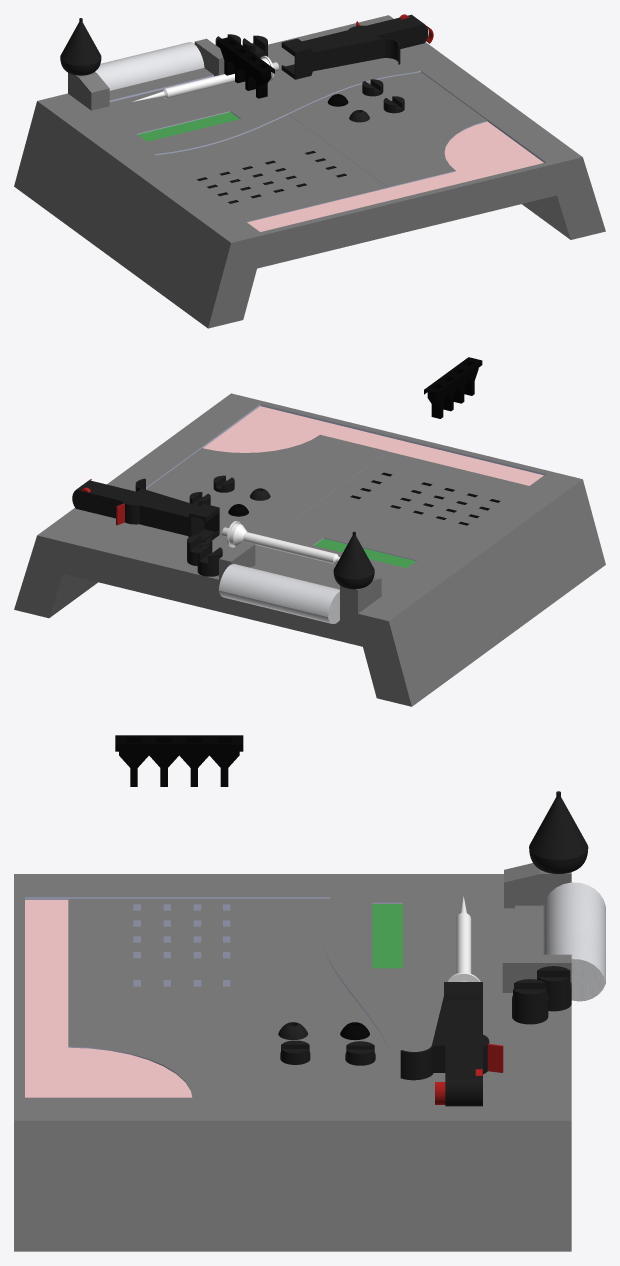
The model's file is labv99_motion.fbx.
3 views of the same model, one above another, from view 1: azimuth 30°, elevation 25°; view 2: azimuth 150°, elevation 25°; view 3: azimuth 270°, elevation 25° (orthographic). The views are drawn at different scales.
Visible parts, largest first — view 1: light grey low gloss plastic, light grey soft touch plastic, color-2 : bUTTON%20pAD - 1 : Part1-1 Body-0 Face-26, black low gloss plastic-5, cotton white 2d, frosted glass, color, black low gloss plastic-2', polypropylene, green medium gloss plastic, black low gloss plastic, black medium gloss plastic; view 2: light grey low gloss plastic, light grey soft touch plastic, color-2 : bUTTON%20pAD - 1 : Part1-1 Body-0 Face-26, black low gloss plastic-5, cotton white 2d, frosted glass, black low gloss plastic-2', polypropylene, color, black medium gloss plastic, green medium gloss plastic, black low gloss plastic; view 3: light grey low gloss plastic, light grey soft touch plastic, color-2 : bUTTON%20pAD - 1 : Part1-1 Body-0 Face-26, black low gloss plastic-5, cotton white 2d, frosted glass, black low gloss plastic-2', black medium gloss plastic, color, green medium gloss plastic, polypropylene, red medium gloss plastic (+1 smaller).
Part boxes in pixels (x1,y1,x2,y2): light grey low gloss plastic: (14,15,605,328); light grey soft touch plastic: (156,72,487,221); color-2 : bUTTON%20pAD - 1 : Part1-1 Body-0 Face-26: (247,121,543,231); black low gloss plastic-5: (281,14,428,79); cotton white 2d: (95,42,204,90); frosted glass: (217,36,274,98); color: (109,70,545,222); black low gloss plastic-2': (60,18,101,75); polypropylene: (132,55,274,101); green medium gloss plastic: (138,112,239,141); black low gloss plastic: (197,151,346,203); black medium gloss plastic: (215,34,267,57); light grey low gloss plastic: (14,393,605,706); light grey soft touch plastic: (146,434,528,551); color-2 : bUTTON%20pAD - 1 : Part1-1 Body-0 Face-26: (203,406,543,485); black low gloss plastic-5: (72,478,219,542); cotton white 2d: (218,564,339,623); frosted glass: (424,357,482,418); black low gloss plastic-2': (333,531,374,589); polypropylene: (227,521,340,563); color: (146,404,545,560); black medium gloss plastic: (187,534,222,576); green medium gloss plastic: (314,538,415,568); black low gloss plastic: (350,472,500,525); light grey low gloss plastic: (14,863,571,1251); light grey soft touch plastic: (68,899,392,1097); color-2 : bUTTON%20pAD - 1 : Part1-1 Body-0 Face-26: (25,900,192,1097); black low gloss plastic-5: (400,982,489,1106); cotton white 2d: (543,882,605,1001); frosted glass: (115,735,243,786); black low gloss plastic-2': (529,791,588,873); black medium gloss plastic: (512,966,571,1024); color: (25,897,402,1096); green medium gloss plastic: (372,904,402,968); polypropylene: (446,896,480,981); red medium gloss plastic: (435,1044,503,1104).
Bounding box in the file's own units: 43.8 × 21.93 × 39.27.
